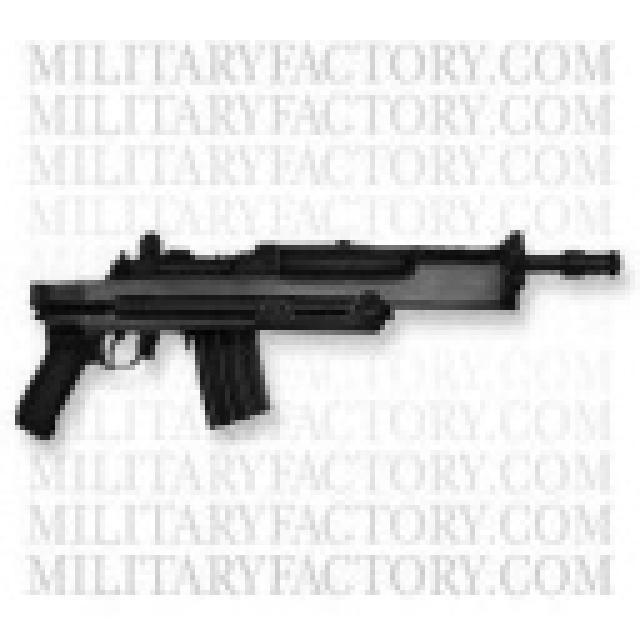Rifle: (30, 164, 640, 460)
